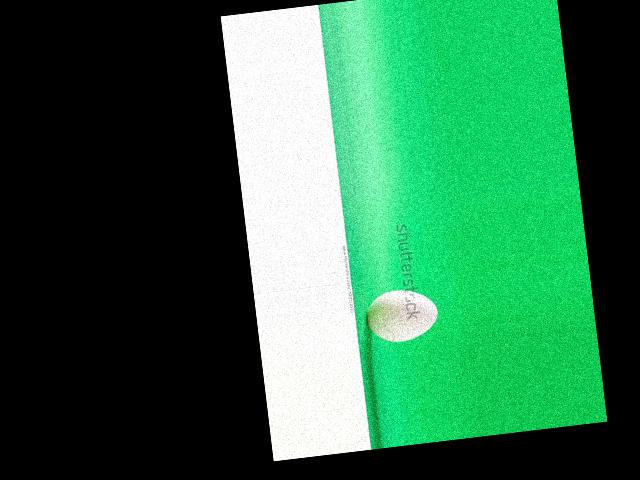egg: (362, 286, 439, 345)
